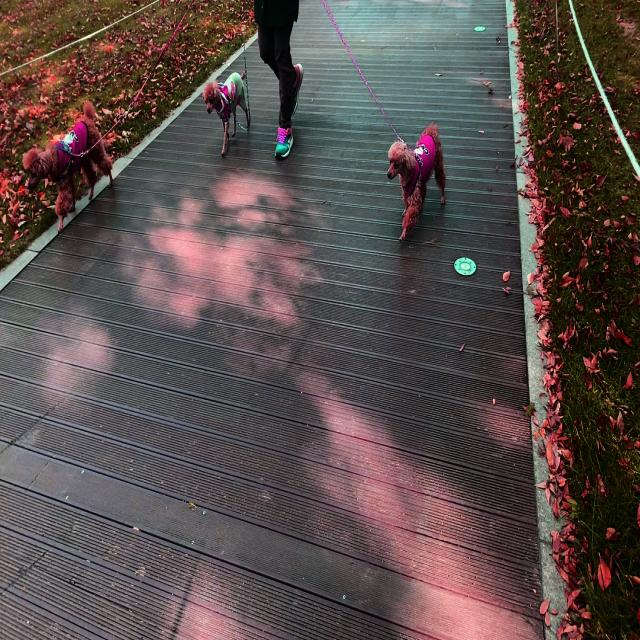Leashed_Dog: (22, 0, 266, 236), (269, 0, 446, 243), (202, 1, 270, 157)
